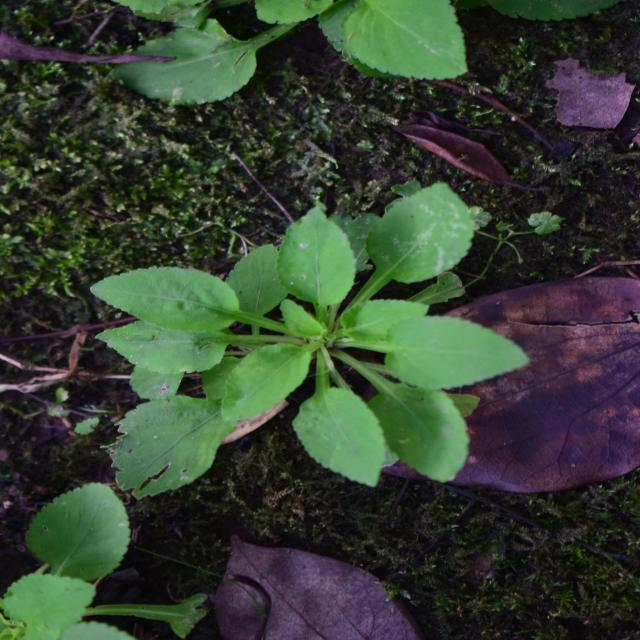Viola: (146, 96, 458, 518)
